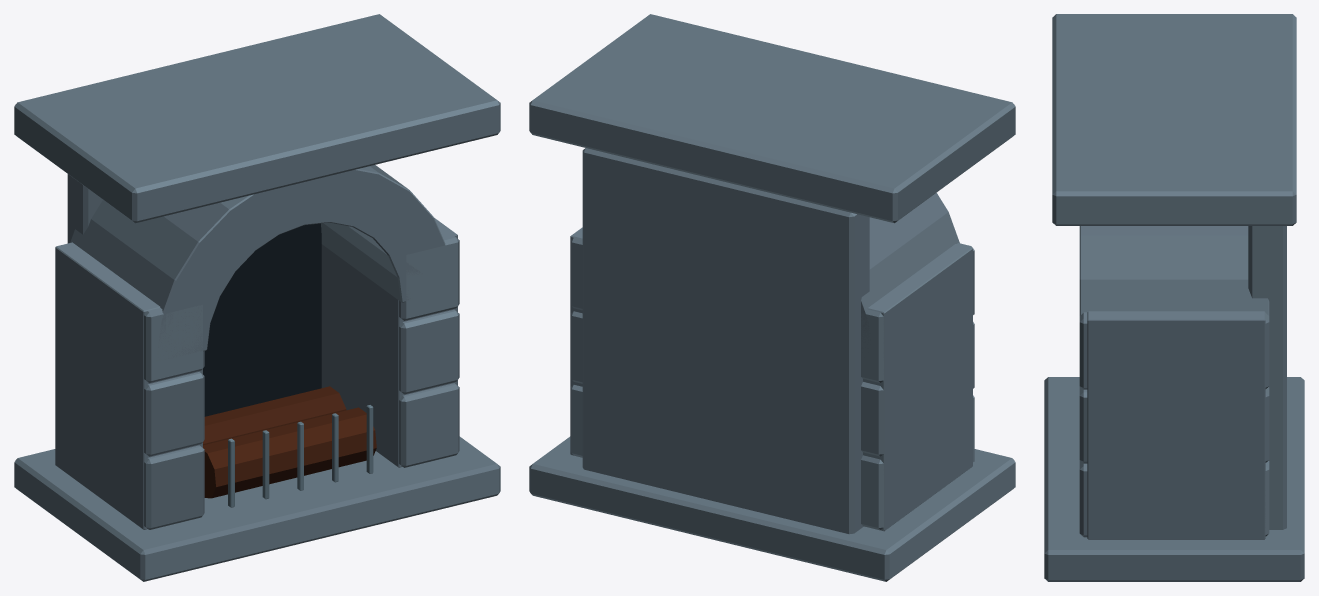
Rendered from EH_Fireplace.fbx.
The picture shows the model from 3 angles, left to right: view 1: azimuth 30°, elevation 25°; view 2: azimuth 150°, elevation 25°; view 3: azimuth 270°, elevation 25°; orthographic projection.
Visible parts, largest first — view 1: EH_Fireplace; view 2: EH_Fireplace; view 3: EH_Fireplace.
Part boxes in pixels (bbox=[...]): EH_Fireplace: bbox=[14, 14, 500, 581]; EH_Fireplace: bbox=[529, 14, 1015, 581]; EH_Fireplace: bbox=[1044, 14, 1304, 581].
Bounding box in the file's own units: 1.33 × 1.35 × 0.81.
